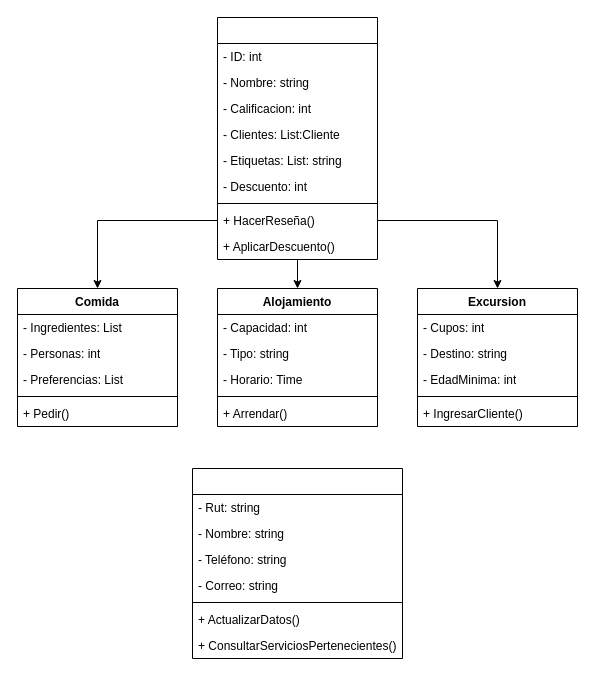
Image size: 595x679. Some labels were removed from this diagram. Each missing label, with the box of its shape:
Cliente: (192, 468, 402, 658)
Servicio: (216, 16, 378, 260)
